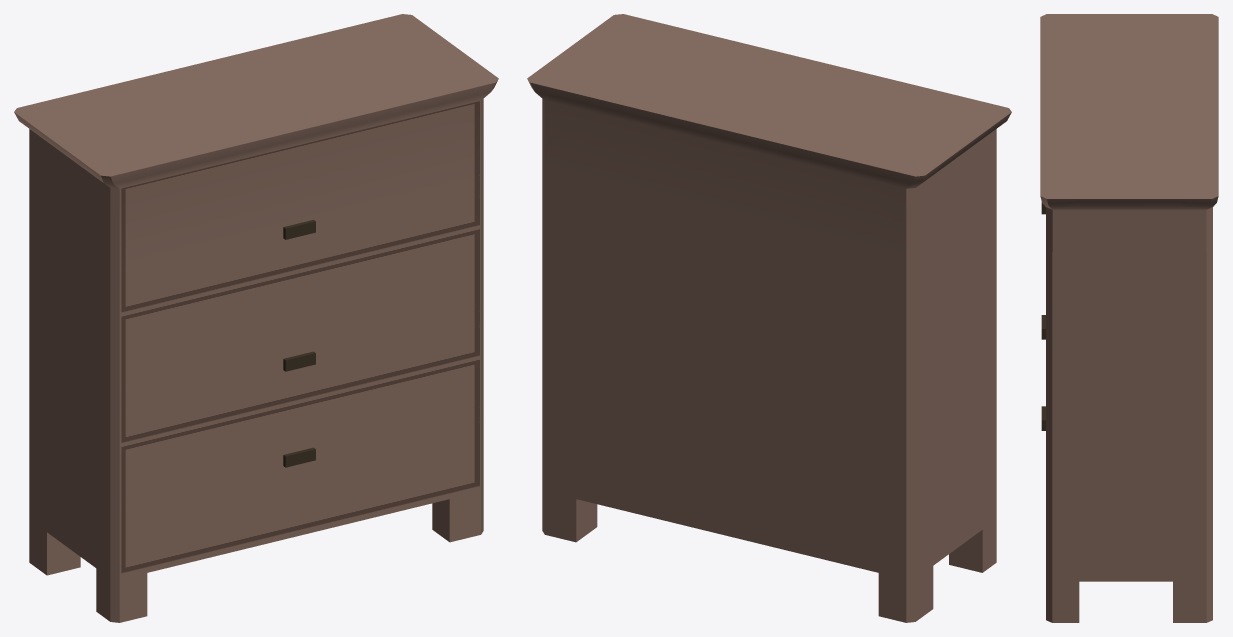
File: PROP_Drawer.fbx
3 renders of one model, left to right at view 1: azimuth 30°, elevation 25°; view 2: azimuth 150°, elevation 25°; view 3: azimuth 270°, elevation 25°, orthographic. The views are drawn at different scales.
Visible parts, largest first — view 1: Drawer; view 2: Drawer; view 3: Drawer.
Part boxes in pixels (<box>): Drawer: <box>14,14,498,622</box>; Drawer: <box>527,14,1011,622</box>; Drawer: <box>1040,14,1218,622</box>.
Bounding box in the file's own units: 102 × 110 × 41.42.
1 material, 1 textured.
